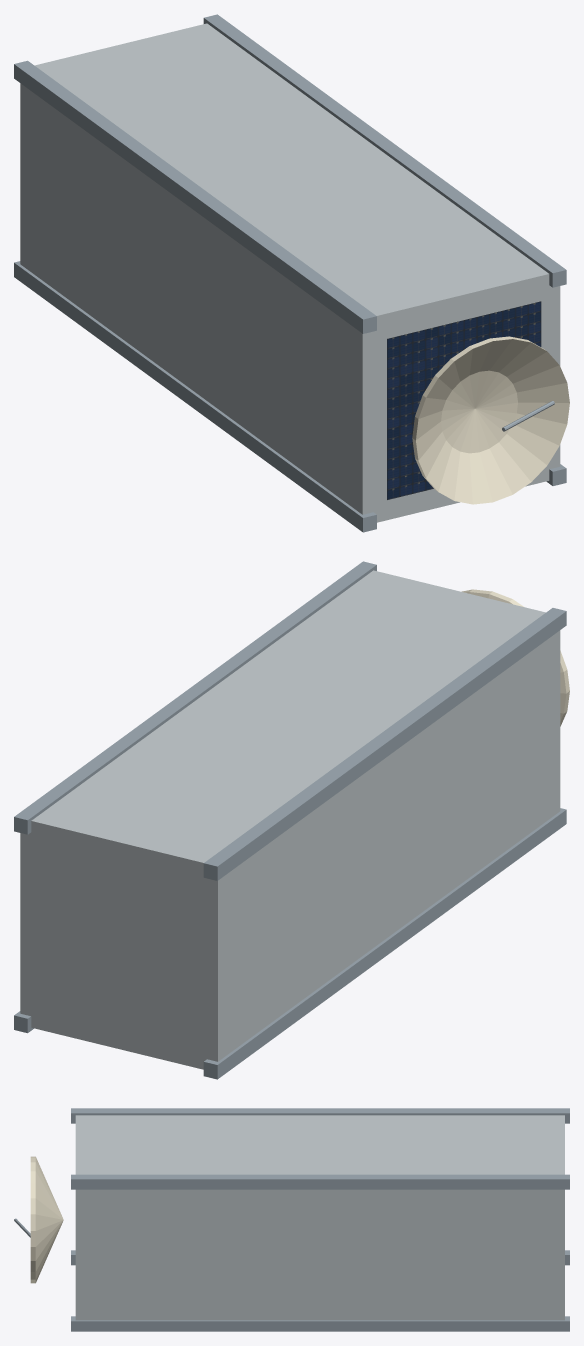
The model's file is ref-cubesat-3u-41934.glb.
The picture shows the model from 3 angles, top to bottom: view 1: azimuth 30°, elevation 25°; view 2: azimuth 150°, elevation 25°; view 3: azimuth 270°, elevation 25°; orthographic projection. The views are drawn at different scales.
Visible parts, largest first — view 1: Spacecraft body, Dispenser rail (×3), Reflector dish, Body-mounted cells; view 2: Spacecraft body, Dispenser rail (×3), Reflector dish; view 3: Spacecraft body, Dispenser rail (×3), Reflector dish.
Boxes of the visible parts, box(x1,y1,x2,y2) form: Spacecraft body: box(20, 23, 560, 522); Dispenser rail (×3): box(14, 14, 566, 532); Reflector dish: box(412, 336, 569, 504); Body-mounted cells: box(387, 301, 541, 499); Spacecraft body: box(20, 570, 560, 1069); Dispenser rail (×3): box(14, 561, 566, 1079); Reflector dish: box(461, 589, 569, 726); Spacecraft body: box(75, 1115, 564, 1320); Dispenser rail (×3): box(71, 1108, 569, 1331); Reflector dish: box(30, 1156, 63, 1283).
Size of the model in its own units: 0.103 by 0.103 by 0.3409.
Materials: 4 (1 with a texture image).
